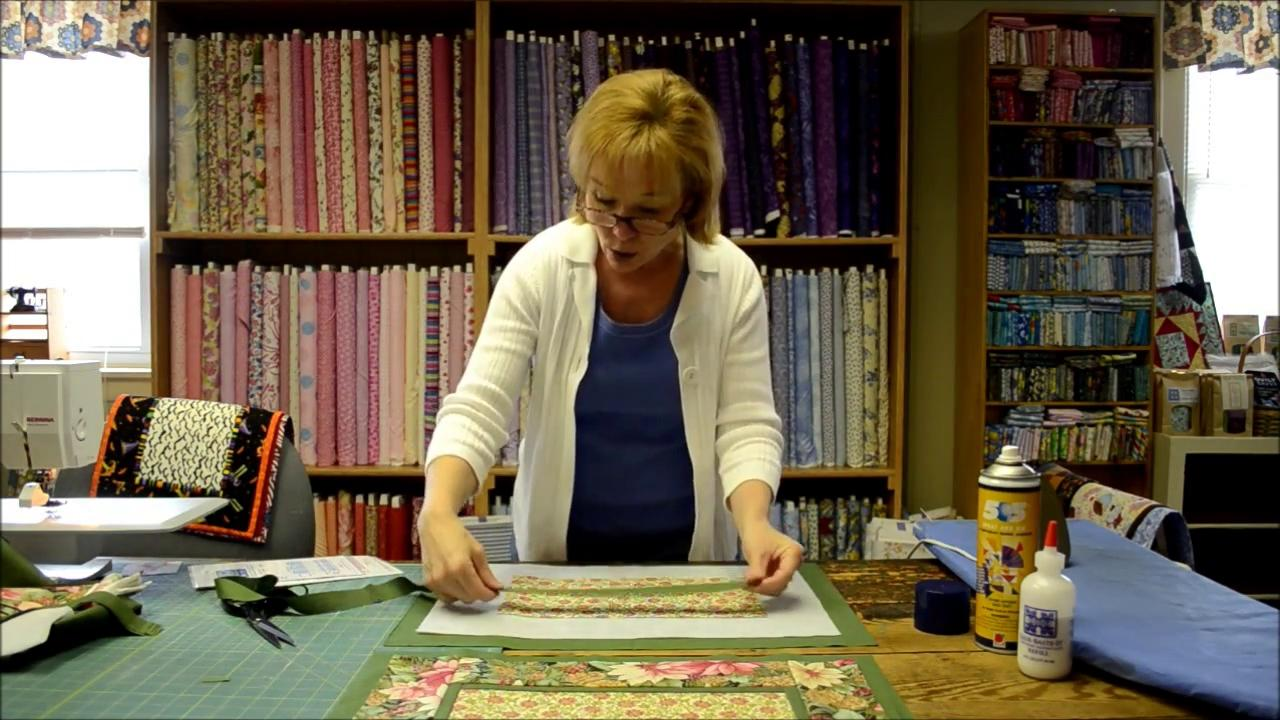victim: (406, 64, 809, 618)
